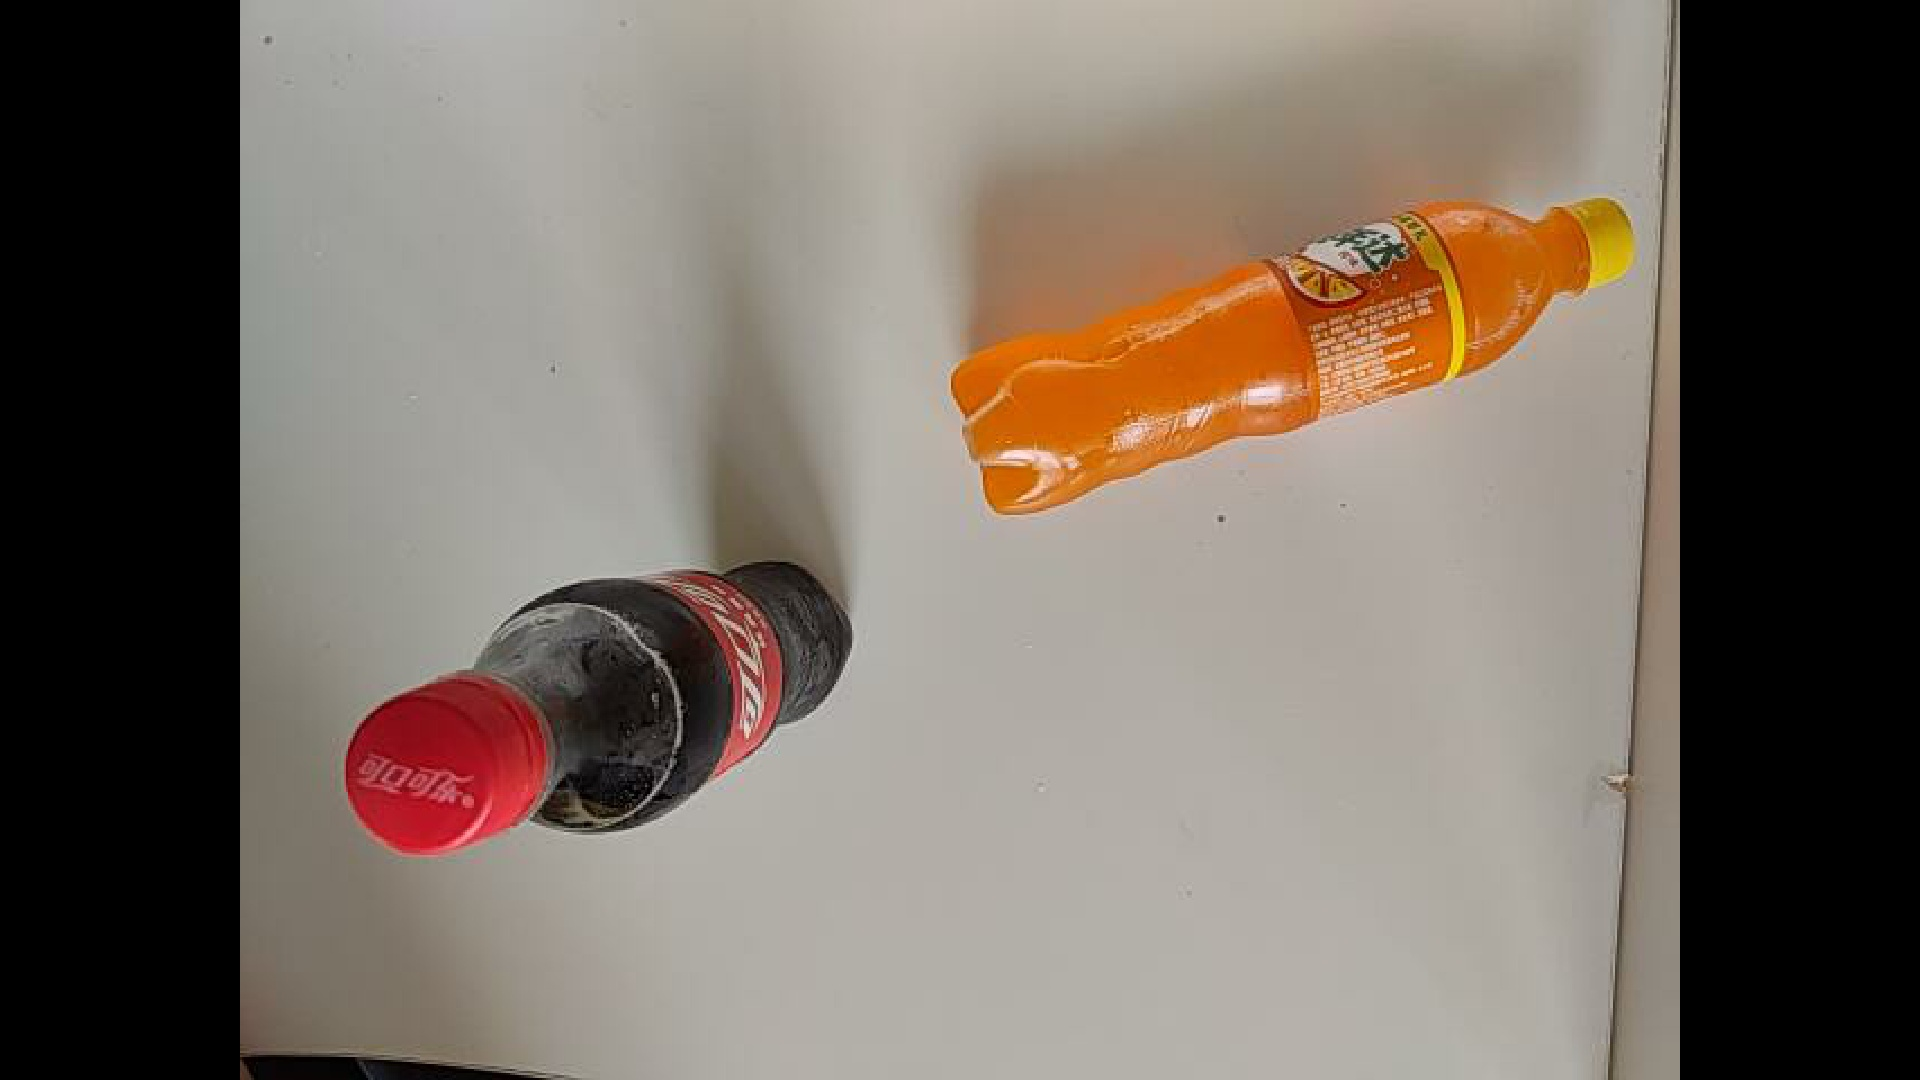cola: (298, 576, 977, 935)
fenta: (935, 236, 1708, 531)
